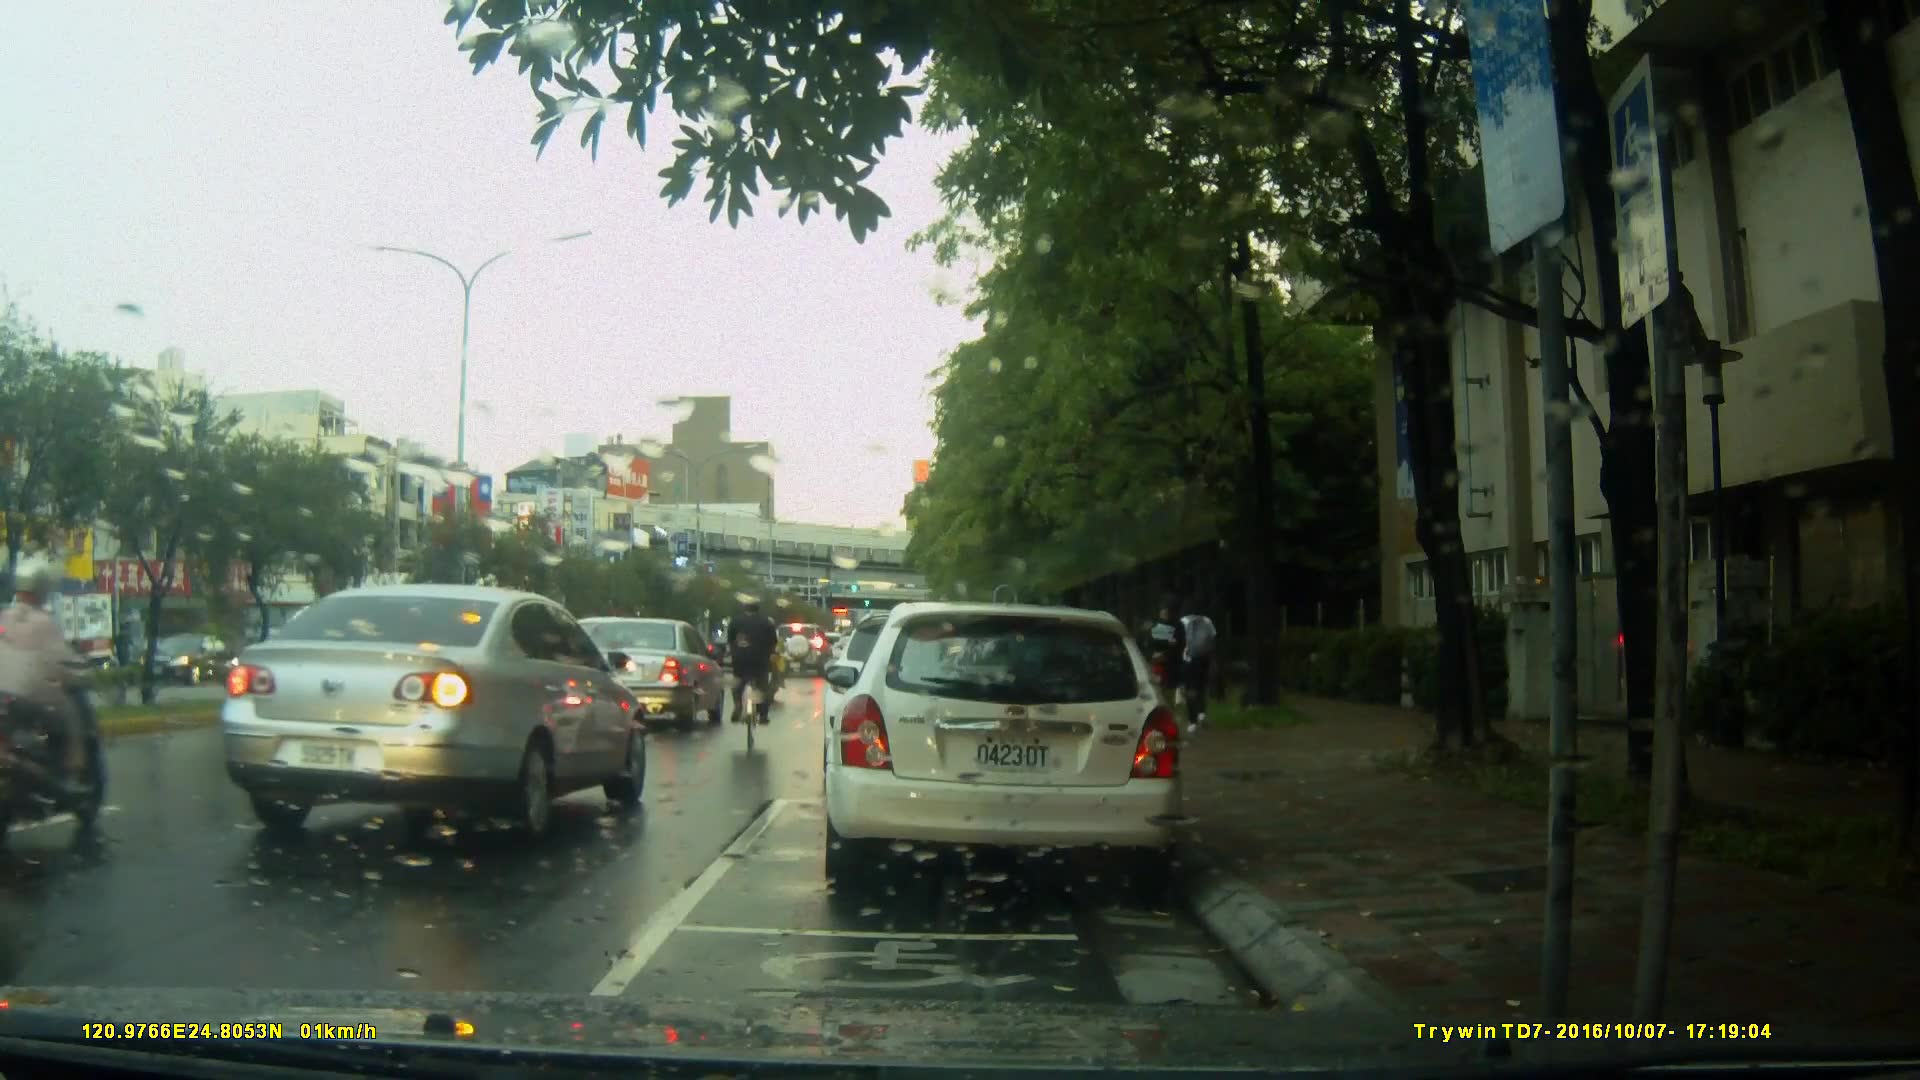pedestrian: (1168, 596, 1220, 736), (1143, 608, 1188, 705)
rider: (1, 555, 121, 856), (724, 597, 782, 768), (753, 614, 792, 709)
vehicle: (217, 582, 652, 849), (820, 602, 1188, 898), (554, 613, 726, 735), (134, 634, 239, 689)
